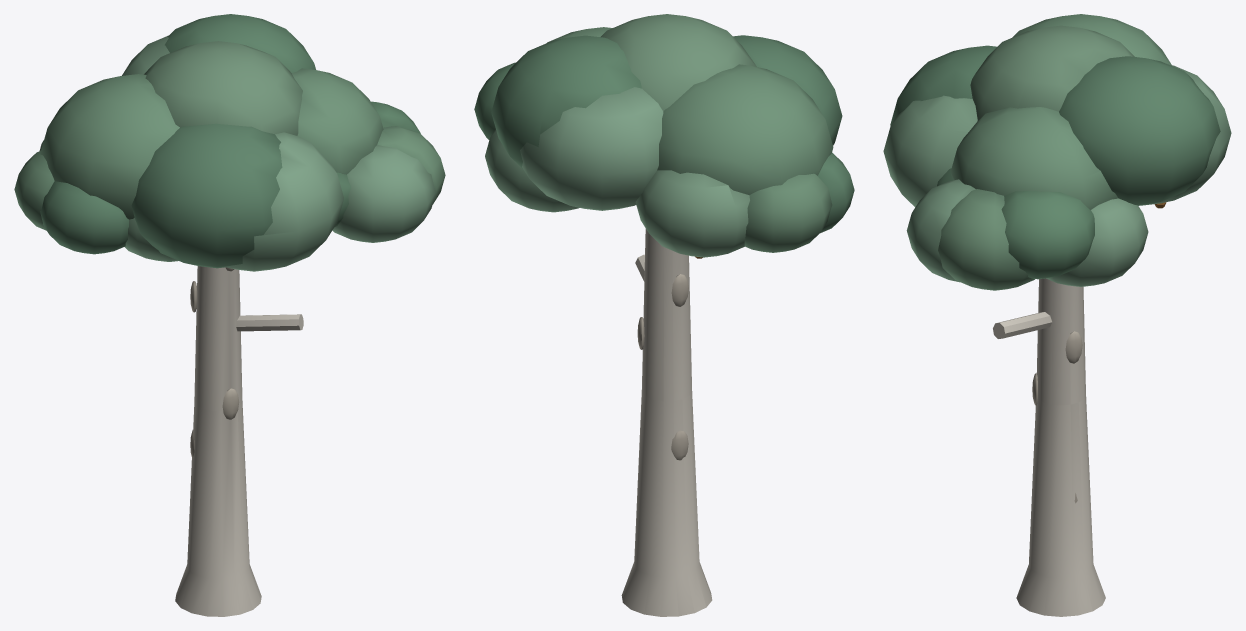
File: pp-gumtree.glb
3 renders of one model, left to right at view 1: azimuth 30°, elevation 25°; view 2: azimuth 150°, elevation 25°; view 3: azimuth 270°, elevation 25°, orthographic. The views are drawn at different scales.
Bounding box in the file's own units: 3.44 × 4.98 × 2.8.
